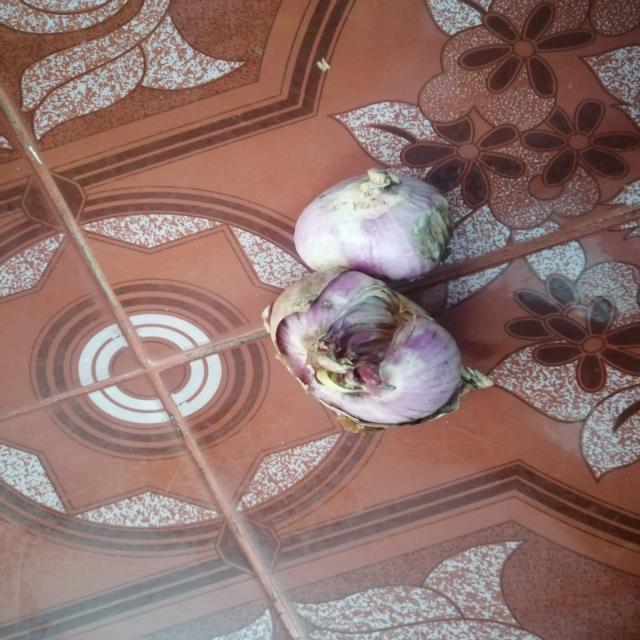rotten: (341, 306, 404, 344), (415, 209, 453, 256)
sprouting: (312, 348, 356, 389)
